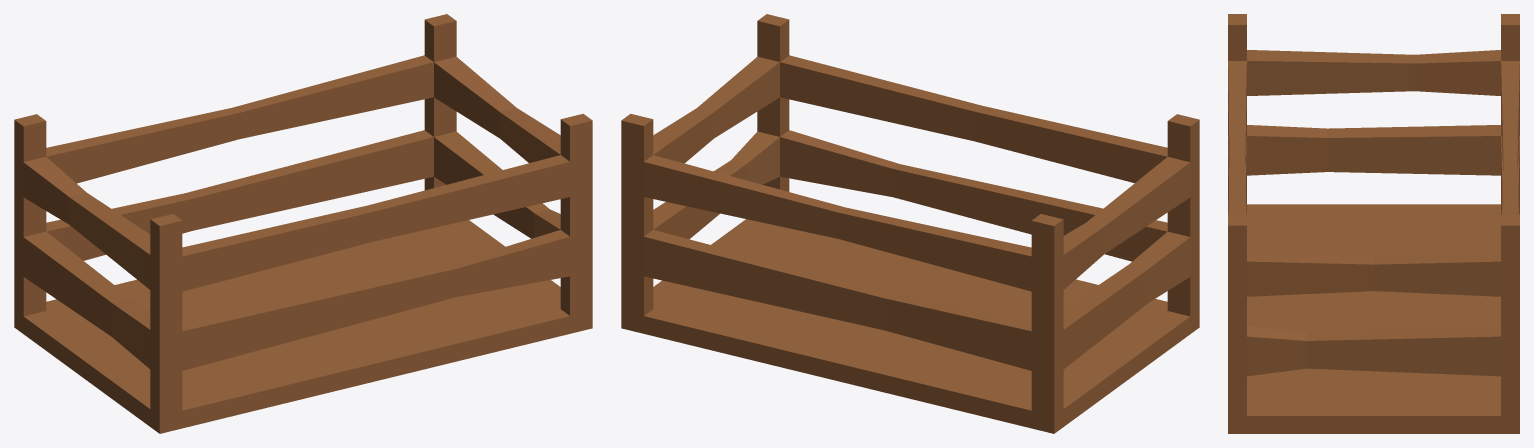
The model's file is Wooden_Case.fbx.
3 renders of one model, left to right at view 1: azimuth 30°, elevation 25°; view 2: azimuth 150°, elevation 25°; view 3: azimuth 270°, elevation 25°, orthographic.
Visible parts, largest first — view 1: Wooden_Case; view 2: Wooden_Case; view 3: Wooden_Case.
Part boxes in pixels (box(x1,y1,x2,y2)): Wooden_Case: box(14, 14, 592, 433); Wooden_Case: box(621, 14, 1199, 433); Wooden_Case: box(1228, 14, 1519, 433).
Bounding box in the file's own units: 91.51 × 41.97 × 53.3.
